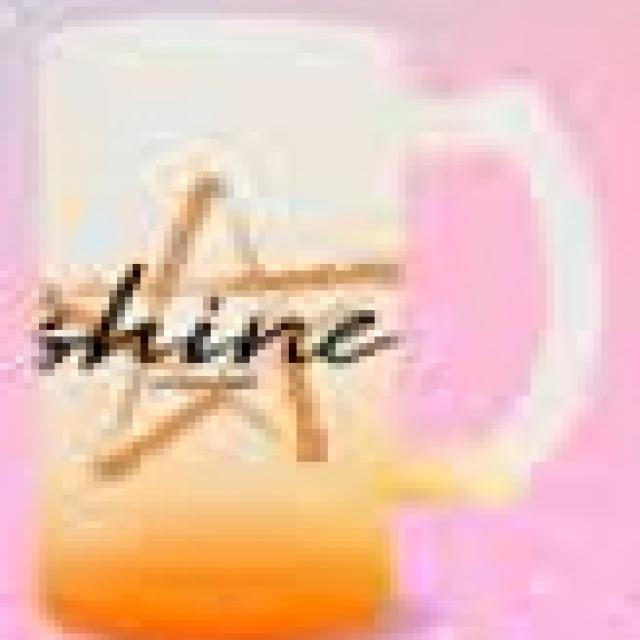taza: (34, 15, 599, 640)
